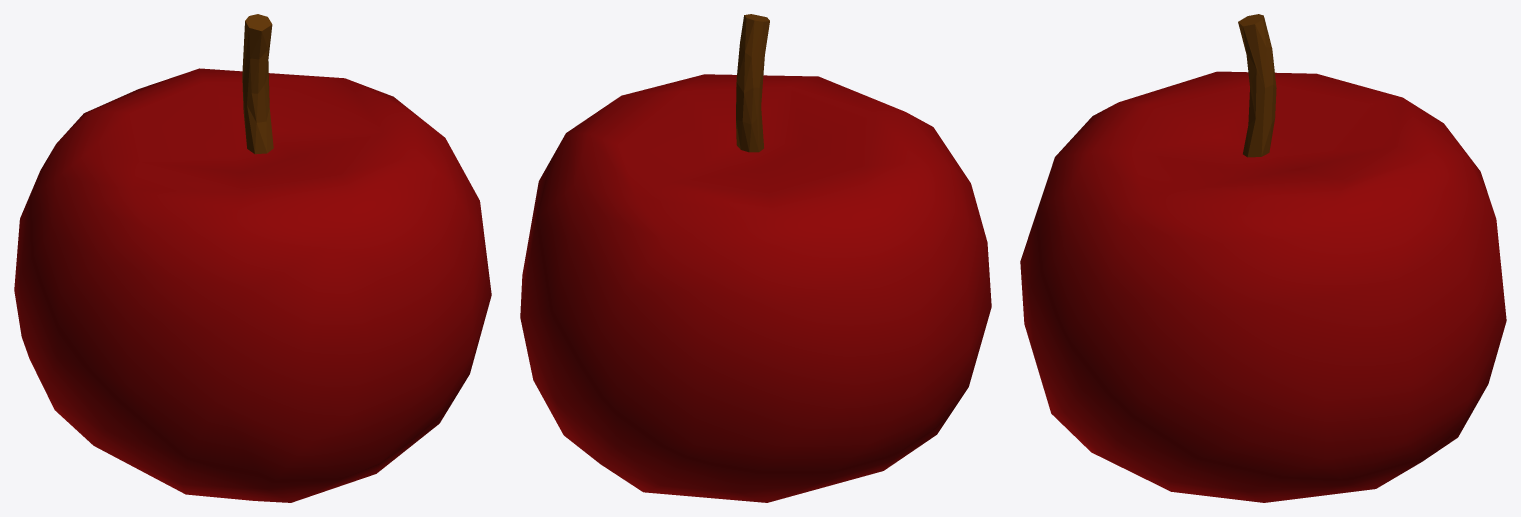
The model's file is manzana.fbx.
3 views of the same model, side by side, from view 1: azimuth 30°, elevation 25°; view 2: azimuth 150°, elevation 25°; view 3: azimuth 270°, elevation 25° (orthographic). The views are drawn at different scales.
Visible parts, largest first — view 1: Sphere, Cylinder; view 2: Sphere, Cylinder; view 3: Sphere, Cylinder.
Part boxes in pixels (left/top/right/bottom): Sphere: left=14, top=68, right=491, bottom=502; Cylinder: left=242, top=14, right=273, bottom=154; Sphere: left=520, top=74, right=991, bottom=502; Cylinder: left=736, top=14, right=769, bottom=152; Sphere: left=1020, top=71, right=1506, bottom=502; Cylinder: left=1238, top=14, right=1276, bottom=157.
Bounding box in the file's own units: 199 × 196 × 200.
